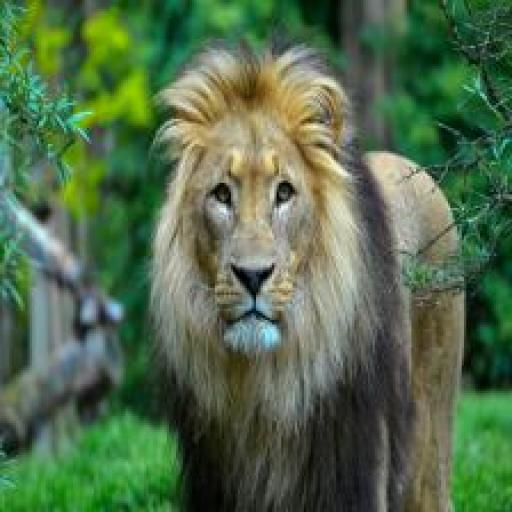lion: (137, 32, 461, 512)
